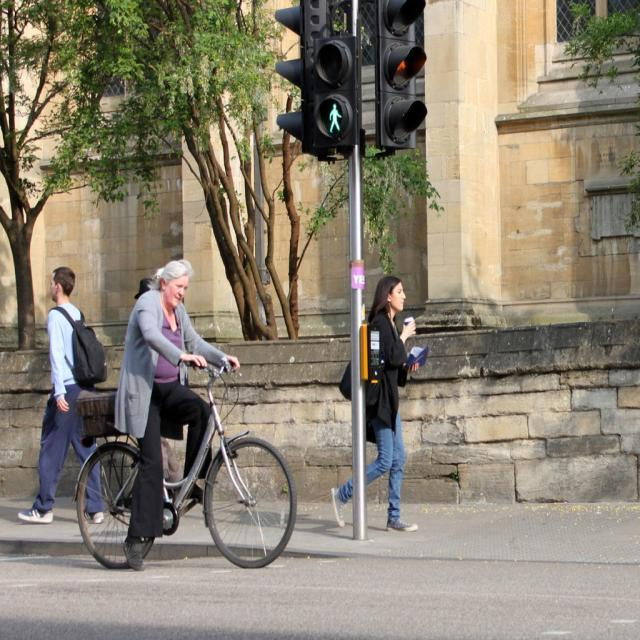off traffic light: (275, 0, 335, 162)
traffic light: (374, 0, 429, 156), (312, 36, 360, 145)
